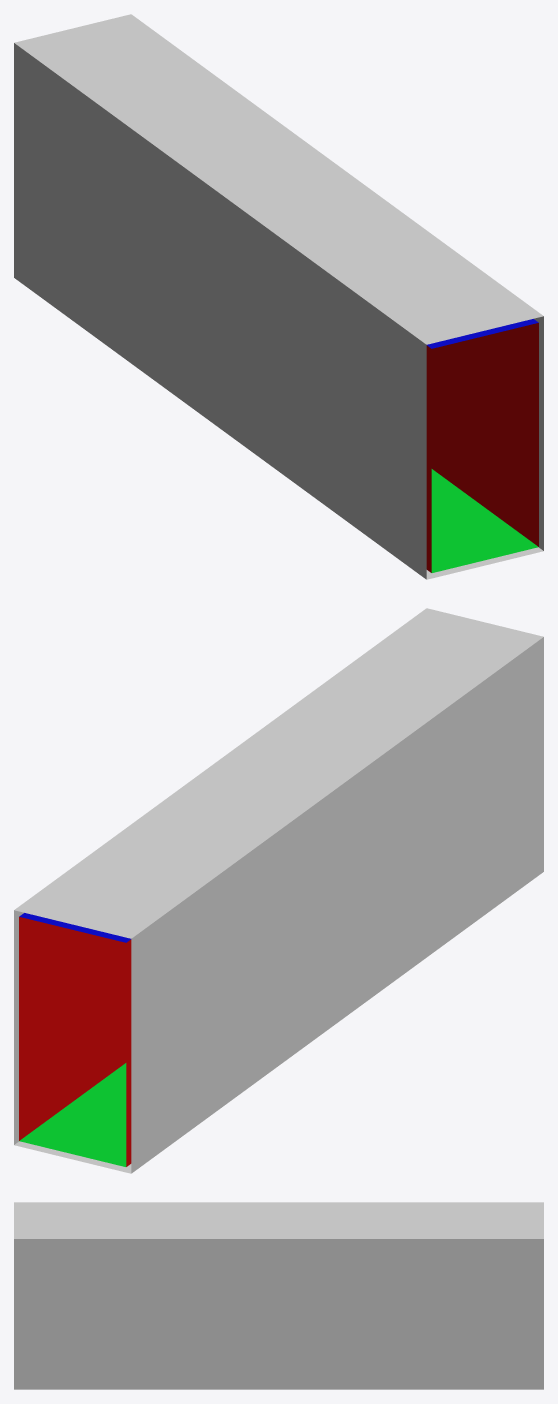
Rendered from corridor01.FBX.
3 views of the same model, one above another, from view 1: azimuth 30°, elevation 25°; view 2: azimuth 150°, elevation 25°; view 3: azimuth 270°, elevation 25° (orthographic). The views are drawn at different scales.
Visible parts, largest first — view 1: Box001; view 2: Box001; view 3: Box001.
Boxes of the visible parts, box(x1,y1,x2,y2) form: Box001: box(14, 14, 543, 579); Box001: box(14, 608, 543, 1173); Box001: box(14, 1202, 543, 1389).
Size of the model in its own units: 1.64 by 10 by 3.14.
